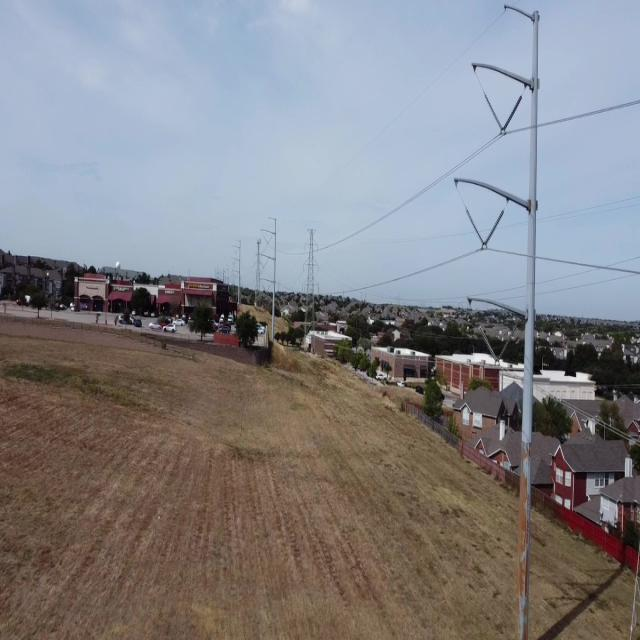杆塔: (300, 214, 326, 346)
正常绝缘子: (493, 322, 519, 366), (477, 322, 501, 368), (483, 91, 506, 135), (482, 207, 506, 249), (500, 94, 524, 135), (464, 206, 486, 248)
